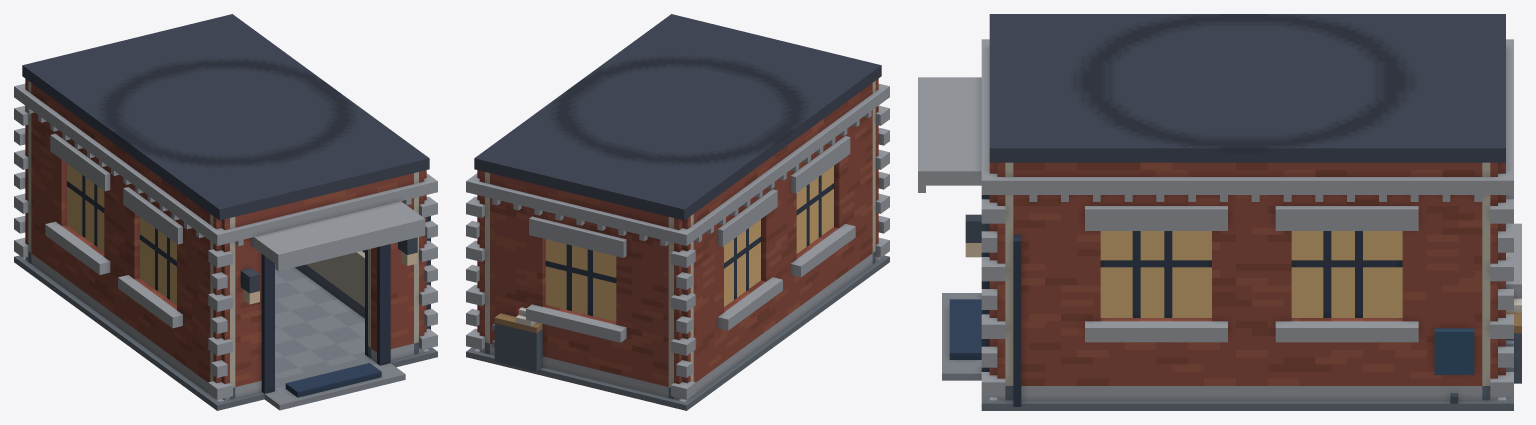
The model's file is lab_e2_l2.glb.
3 views of the same model, side by side, from view 1: azimuth 30°, elevation 25°; view 2: azimuth 150°, elevation 25°; view 3: azimuth 270°, elevation 25° (orthographic). The views are drawn at different scales.
Parts seen in each view (by area): view 1: CutRoof, Base, CutNX, CutPZ, CutNZ; view 2: CutRoof, CutNZ, CutNX, Base, CutPZ; view 3: CutPX, CutRoof, Base, CutPZ, CutNZ.
Boxes of the visible parts, x1,y1,x2,y2 form: CutRoof: (22, 14, 429, 220); Base: (14, 212, 437, 410); CutNX: (20, 83, 215, 343); CutPZ: (208, 170, 437, 355); CutNZ: (14, 78, 31, 214); CutRoof: (474, 14, 881, 220); CutNZ: (466, 170, 695, 355); CutNX: (688, 83, 883, 343); Base: (466, 212, 889, 410); CutPZ: (872, 78, 889, 214); CutPX: (997, 162, 1497, 342); CutRoof: (989, 14, 1505, 162); Base: (942, 293, 1521, 410); CutPZ: (918, 39, 1021, 342); CutNZ: (1482, 39, 1521, 338).
Bounding box in the file's own units: 4.4 × 3.6 × 7.6.
